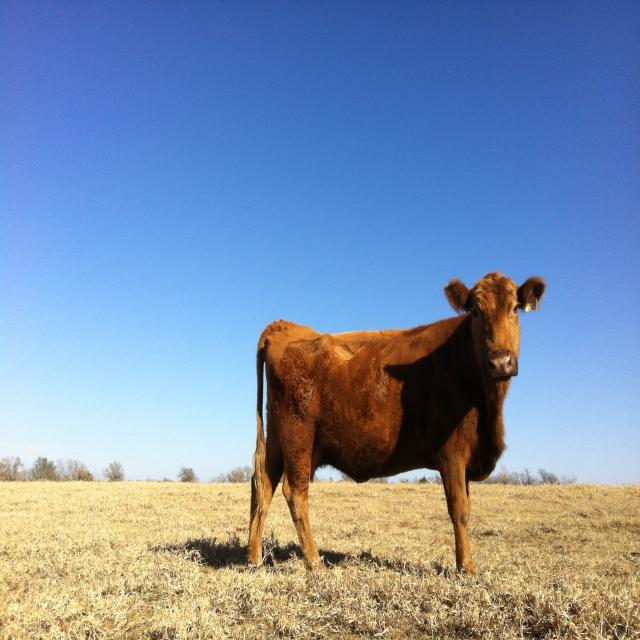cow: (249, 273, 545, 574)
